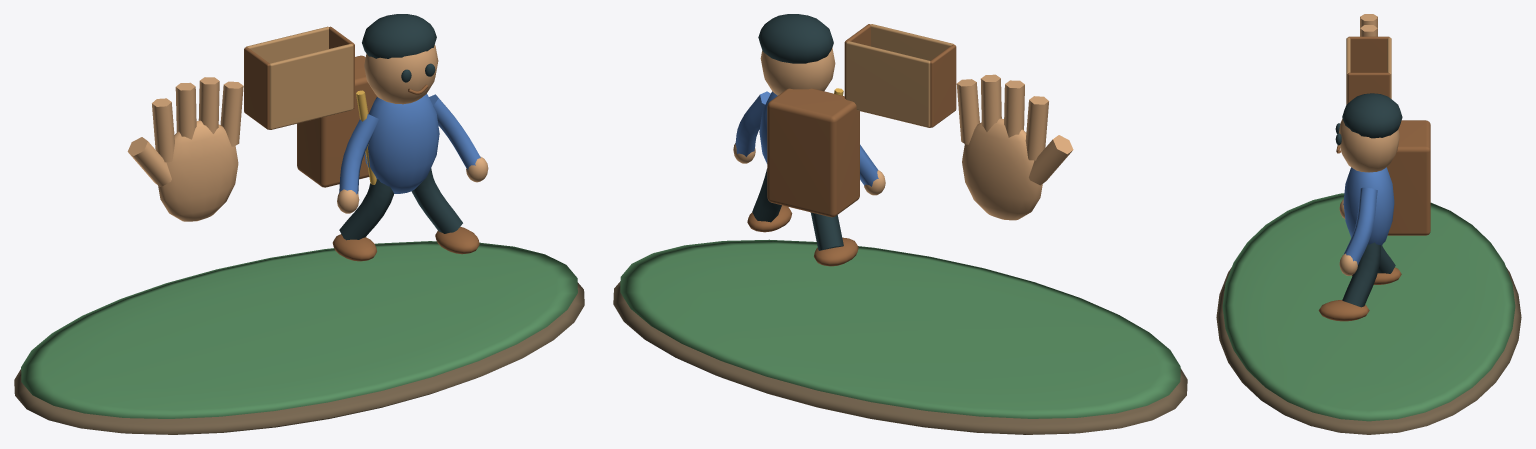
The model's file is complete-second-helping-busy.glb.
3 renders of one model, left to right at view 1: azimuth 30°, elevation 25°; view 2: azimuth 150°, elevation 25°; view 3: azimuth 270°, elevation 25°, orthographic. The views are drawn at different scales.
Visible parts, largest first — view 1: complete-second-helping-busy_surface_01, complete-second-helping-busy_surface_02, complete-second-helping-busy_surface_00, complete-second-helping-busy_surface_05, complete-second-helping-busy_surface_04, complete-second-helping-busy_surface_07, complete-second-helping-busy_surface_03; view 2: complete-second-helping-busy_surface_01, complete-second-helping-busy_surface_04, complete-second-helping-busy_surface_02, complete-second-helping-busy_surface_00, complete-second-helping-busy_surface_07, complete-second-helping-busy_surface_03, complete-second-helping-busy_surface_05; view 3: complete-second-helping-busy_surface_01, complete-second-helping-busy_surface_04, complete-second-helping-busy_surface_00, complete-second-helping-busy_surface_03, complete-second-helping-busy_surface_05, complete-second-helping-busy_surface_02, complete-second-helping-busy_surface_07.
Part boxes in pixels (box(x1,y1,x2,y2)): complete-second-helping-busy_surface_01: box(21, 241, 577, 418); complete-second-helping-busy_surface_02: box(127, 45, 488, 221); complete-second-helping-busy_surface_00: box(14, 282, 584, 434); complete-second-helping-busy_surface_05: box(339, 94, 480, 194); complete-second-helping-busy_surface_04: box(244, 26, 479, 261); complete-second-helping-busy_surface_07: box(246, 26, 353, 129); complete-second-helping-busy_surface_03: box(339, 14, 462, 240); complete-second-helping-busy_surface_01: box(620, 239, 1180, 418); complete-second-helping-busy_surface_04: box(747, 24, 956, 266); complete-second-helping-busy_surface_02: box(733, 48, 1073, 220); complete-second-helping-busy_surface_00: box(613, 281, 1187, 434); complete-second-helping-busy_surface_07: box(846, 24, 953, 127); complete-second-helping-busy_surface_03: box(752, 14, 843, 250); complete-second-helping-busy_surface_05: box(735, 91, 878, 186); complete-second-helping-busy_surface_01: box(1222, 193, 1515, 421); complete-second-helping-busy_surface_04: box(1318, 36, 1430, 321); complete-second-helping-busy_surface_00: box(1216, 267, 1521, 434); complete-second-helping-busy_surface_03: box(1335, 93, 1402, 307); complete-second-helping-busy_surface_05: box(1343, 167, 1394, 265); complete-second-helping-busy_surface_02: box(1339, 14, 1399, 275); complete-second-helping-busy_surface_07: box(1346, 37, 1391, 104).
Bounding box in the file's own units: 4.56 × 2.51 × 2.5.
